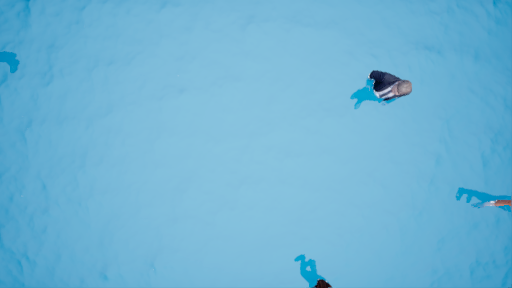person: (332, 67, 421, 114), (447, 182, 512, 218), (288, 249, 345, 288)
